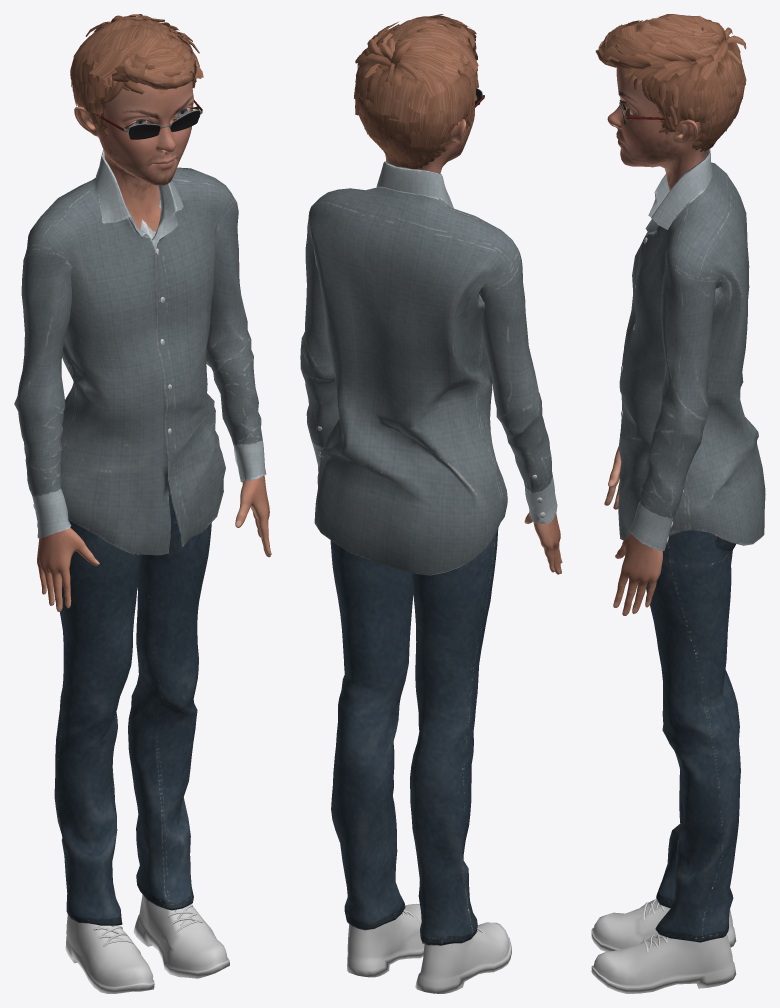
Rendered from MaleTeen_posed.fbx.
3 renders of one model, left to right at view 1: azimuth 30°, elevation 25°; view 2: azimuth 150°, elevation 25°; view 3: azimuth 270°, elevation 25°, orthographic.
Visible parts, largest first — view 1: Tops, Bottoms, Body, Shoes, Hair, Eyewear; view 2: Tops, Bottoms, Hair, Shoes, Body; view 3: Tops, Bottoms, Hair, Shoes, Body.
Part boxes in pixels (x1,y1,x2,y2): Tops: (14,149,266,555); Bottoms: (54,481,211,925); Body: (37,81,271,611); Shoes: (65,894,229,993); Hair: (70,14,203,137); Eyewear: (96,100,202,139); Tops: (300,161,557,575); Bottoms: (330,528,498,945); Hair: (354,14,478,169); Shoes: (347,904,511,993); Body: (385,90,562,574); Tops: (618,148,765,551); Bottoms: (646,530,740,942); Hair: (595,14,746,151); Shoes: (591,898,736,993); Body: (604,40,720,615).
Bounding box in the file's own units: 44.25 × 170 × 28.15.
